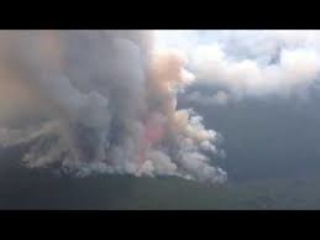smoke: (6, 33, 229, 183)
